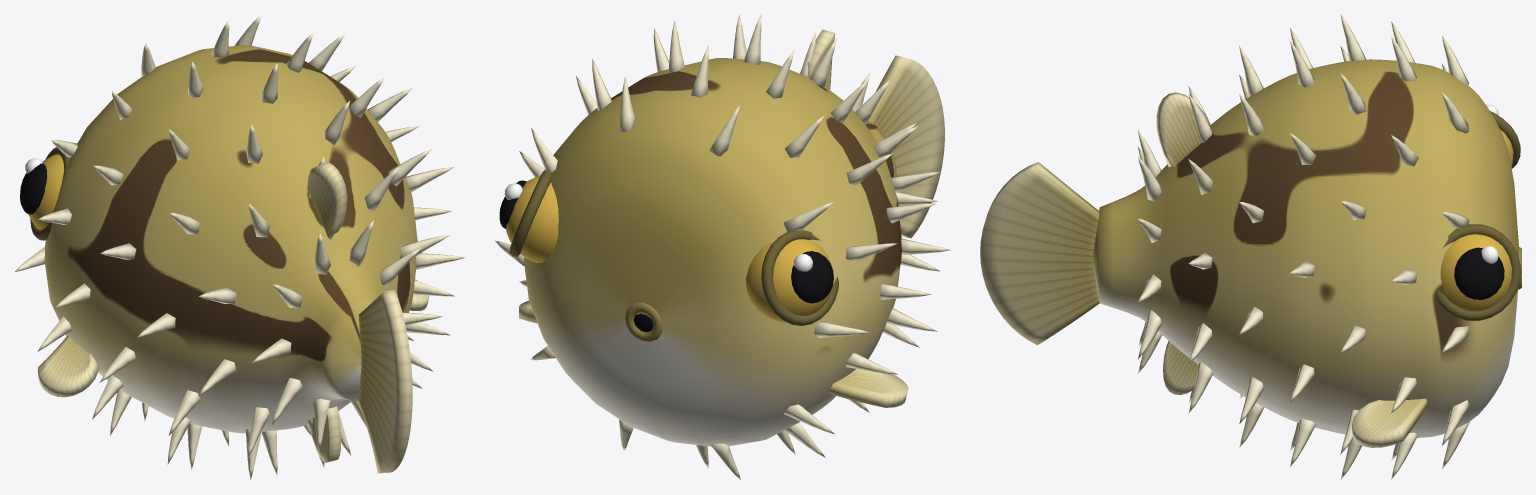
Rendered from Pufferfish.fbx.
3 views of the same model, side by side, from view 1: azimuth 30°, elevation 25°; view 2: azimuth 150°, elevation 25°; view 3: azimuth 270°, elevation 25° (orthographic).
Parts seen in each view (by area): view 1: Pufferfish; view 2: Pufferfish; view 3: Pufferfish.
Boxes of the visible parts, x1,y1,x2,y2 form: Pufferfish: (15, 14, 464, 480); Pufferfish: (495, 14, 950, 479); Pufferfish: (980, 14, 1521, 480).
Size of the model in its own units: 141 by 145 by 167.
Materials: 1 (1 with a texture image).
